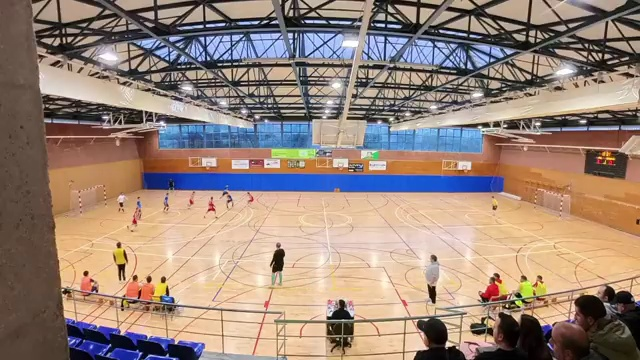players blue shirt: (137, 197, 142, 218), (226, 194, 233, 208), (163, 192, 168, 211), (222, 185, 228, 195)
players red shirt: (131, 197, 141, 230), (206, 198, 215, 213), (188, 192, 195, 206), (247, 192, 253, 203)
